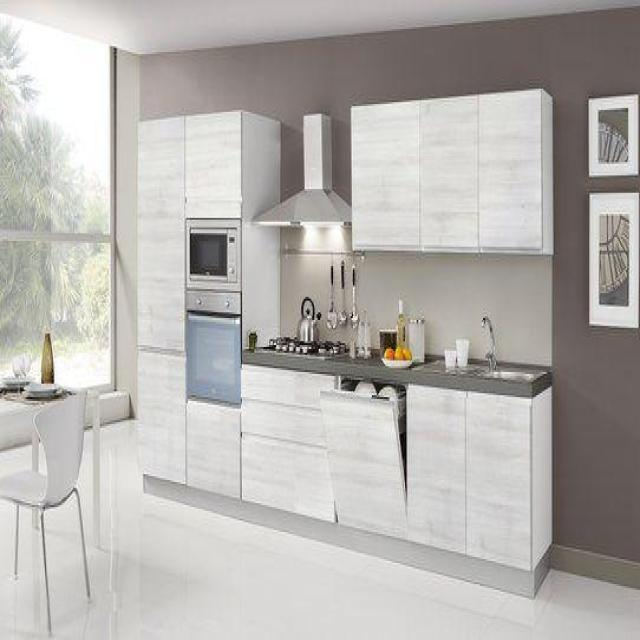dishwasher: (316, 380, 411, 538)
